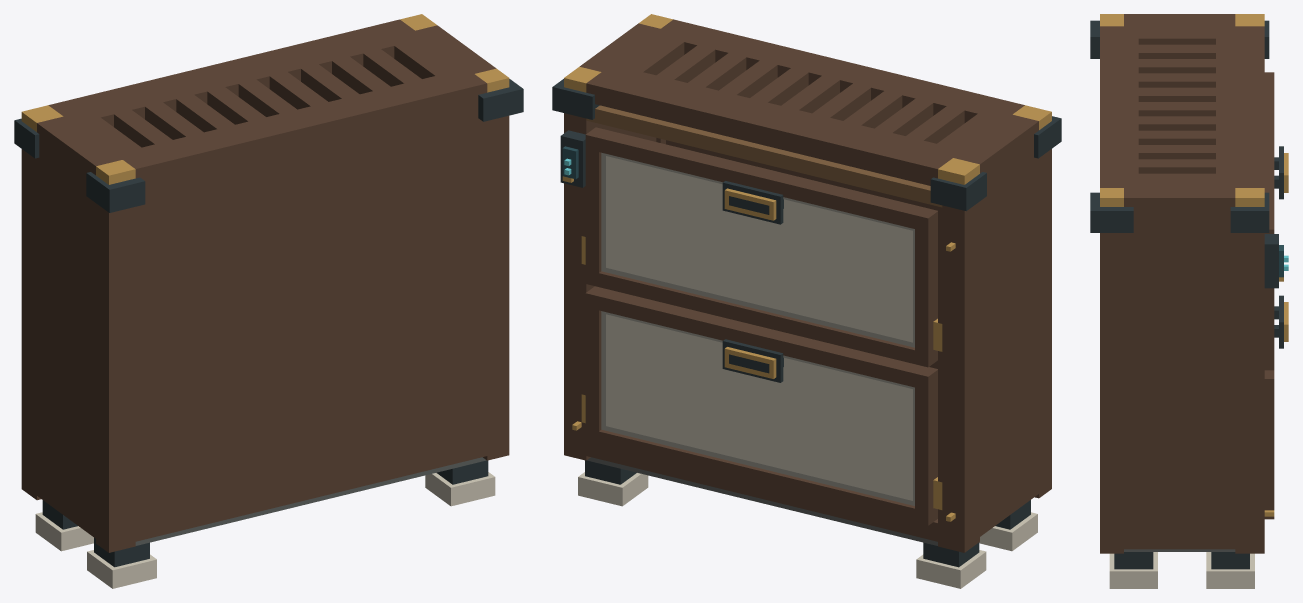
The picture shows the model from 3 angles, left to right: view 1: azimuth 30°, elevation 25°; view 2: azimuth 150°, elevation 25°; view 3: azimuth 270°, elevation 25°; orthographic projection. The views are drawn at different scales.
Visible parts, largest first — view 1: 玄关鞋柜; view 2: 玄关鞋柜; view 3: 玄关鞋柜.
Boxes of the visible parts, box(x1,y1,x2,y2) form: 玄关鞋柜: box(14, 14, 523, 588); 玄关鞋柜: box(552, 14, 1061, 588); 玄关鞋柜: box(1090, 14, 1288, 588).
Bounding box in the file's own units: 0.93 × 0.9 × 0.41.
9 materials, 9 textured.
